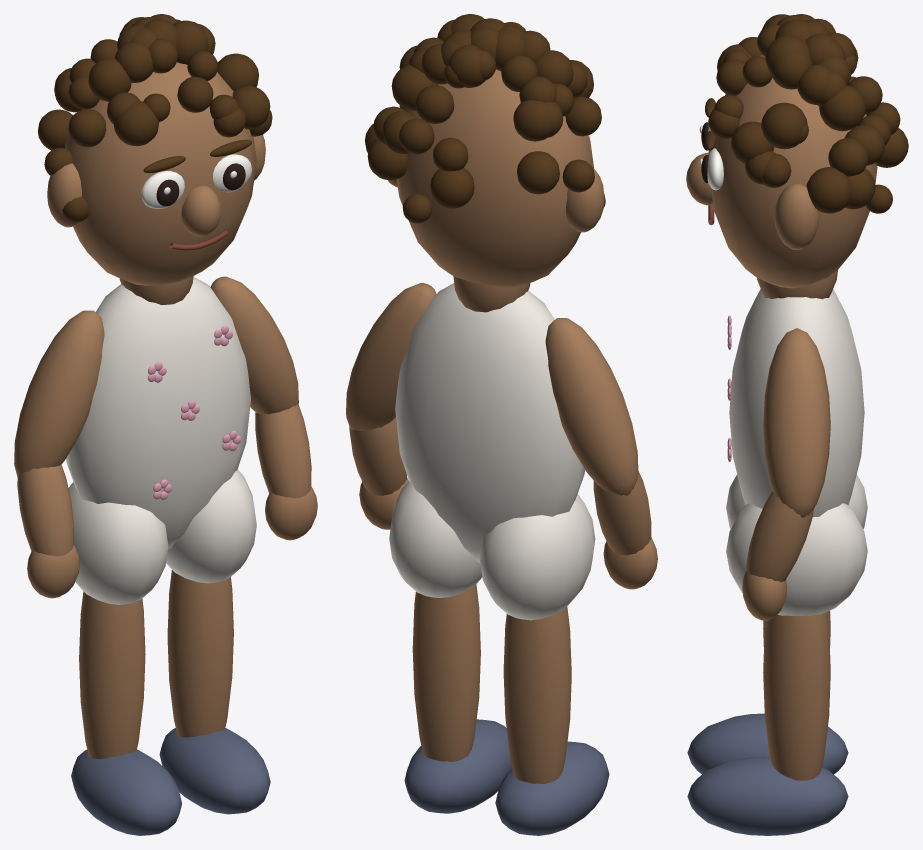
The model's file is myla.glb.
3 views of the same model, side by side, from view 1: azimuth 30°, elevation 25°; view 2: azimuth 150°, elevation 25°; view 3: azimuth 270°, elevation 25° (orthographic). The views are drawn at different scales.
Visible parts, largest first — view 1: Myla character mesh; view 2: Myla character mesh; view 3: Myla character mesh.
Boxes of the visible parts, x1,y1,x2,y2 form: Myla character mesh: [14, 14, 317, 835]; Myla character mesh: [346, 14, 657, 835]; Myla character mesh: [686, 14, 908, 835].
Size of the model in its own units: 1.03 by 2.7 by 0.6912.
